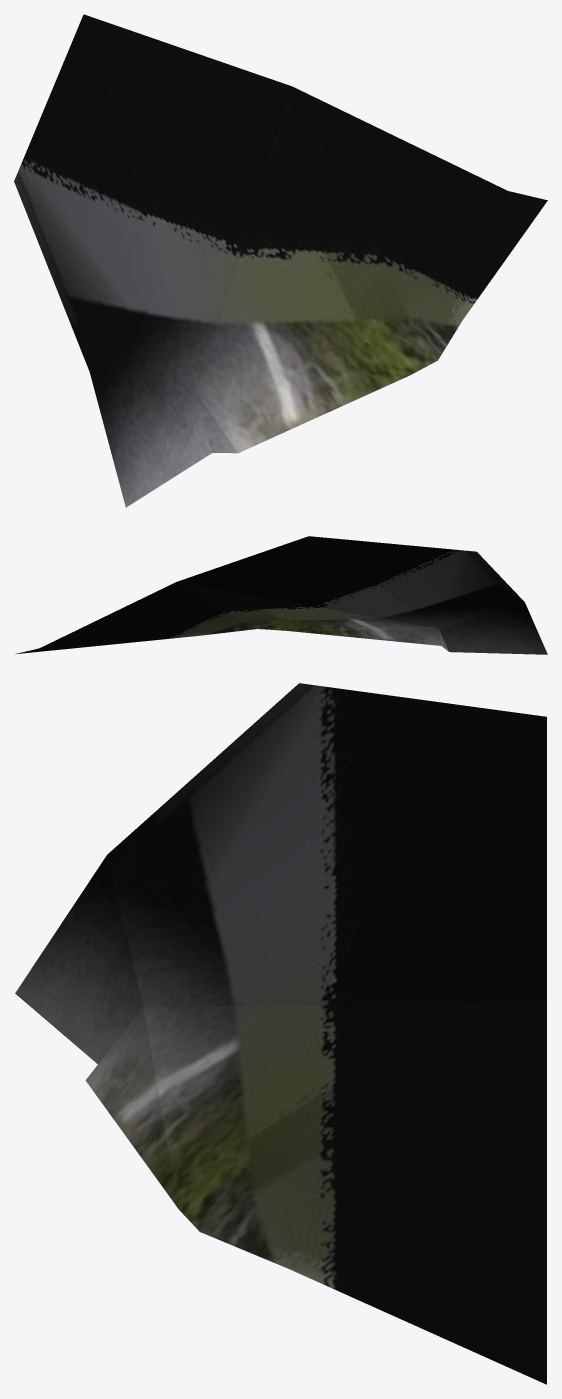
The picture shows the model from 3 angles, top to bottom: view 1: azimuth 30°, elevation 25°; view 2: azimuth 150°, elevation 25°; view 3: azimuth 270°, elevation 25°; orthographic projection. The views are drawn at different scales.
Size of the model in its own units: 5.84 by 2.64 by 3.35.
Materials: 2 (2 with a texture image).
